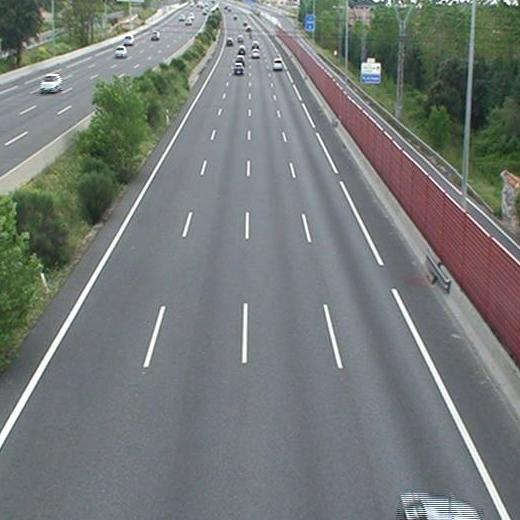car: (272, 58, 283, 70), (233, 63, 243, 74), (235, 55, 244, 63), (251, 49, 260, 57), (237, 45, 245, 53), (225, 37, 232, 45)
